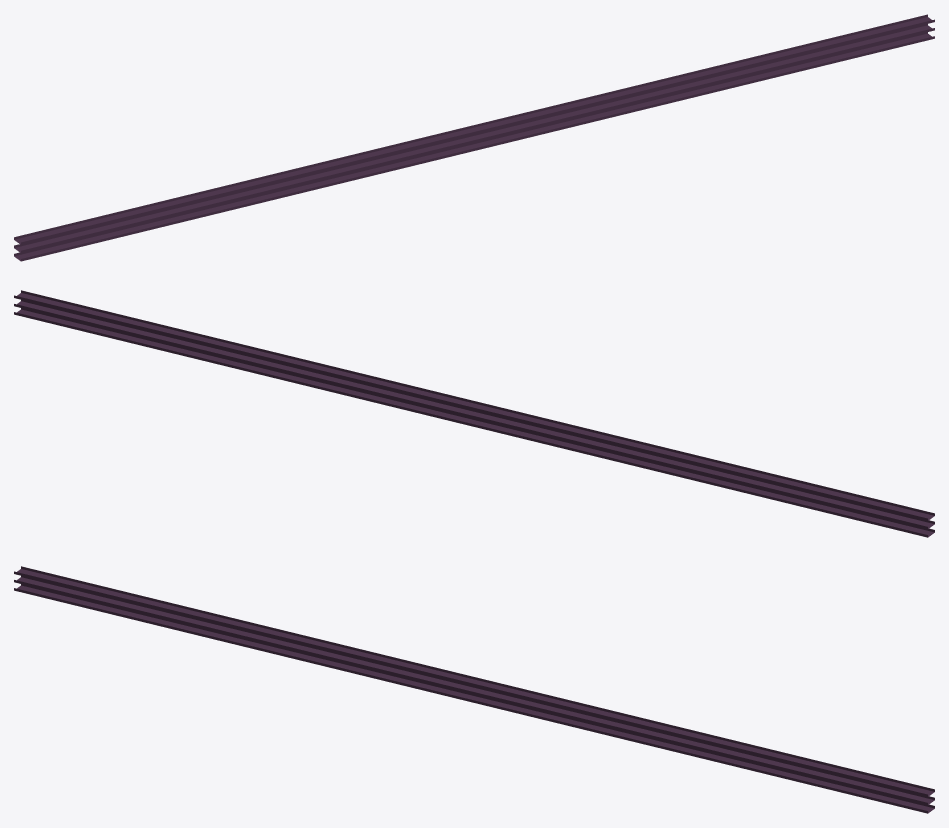
The model's file is GCC-AAV-13220-30(63).fbx.
The picture shows the model from 3 angles, top to bottom: view 1: azimuth 30°, elevation 25°; view 2: azimuth 150°, elevation 25°; view 3: azimuth 330°, elevation 25°; orthographic projection.
Bounding box in the file's own units: 1181 × 23.62 × 16.04.
